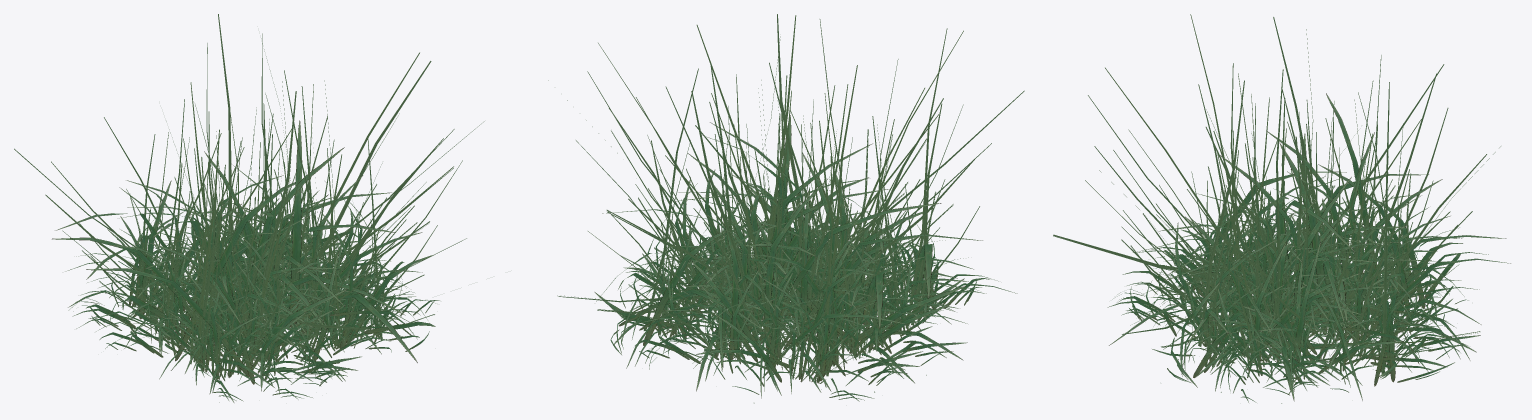
Rendered from rumput.glb.
The picture shows the model from 3 angles, left to right: view 1: azimuth 30°, elevation 25°; view 2: azimuth 150°, elevation 25°; view 3: azimuth 270°, elevation 25°; orthographic projection. The views are drawn at different scales.
Visible parts, largest first — view 1: Rumput_L1, Rumput_L2, Rumput_L0; view 2: Rumput_L1, Rumput_L0, Rumput_L2; view 3: Rumput_L1, Rumput_L2, Rumput_L0.
Part boxes in pixels (bbox=[...]): Rumput_L1: bbox=[45, 81, 466, 402]; Rumput_L2: bbox=[14, 14, 484, 391]; Rumput_L0: bbox=[68, 162, 439, 400]; Rumput_L1: bbox=[557, 62, 998, 403]; Rumput_L0: bbox=[597, 149, 1017, 401]; Rumput_L2: bbox=[548, 14, 1024, 392]; Rumput_L1: bbox=[1085, 84, 1510, 403]; Rumput_L2: bbox=[1053, 14, 1506, 400]; Rumput_L0: bbox=[1117, 166, 1488, 402].
Bounding box in the file's own units: 4.11 × 2.5 × 3.94.
1 material, 1 textured.
